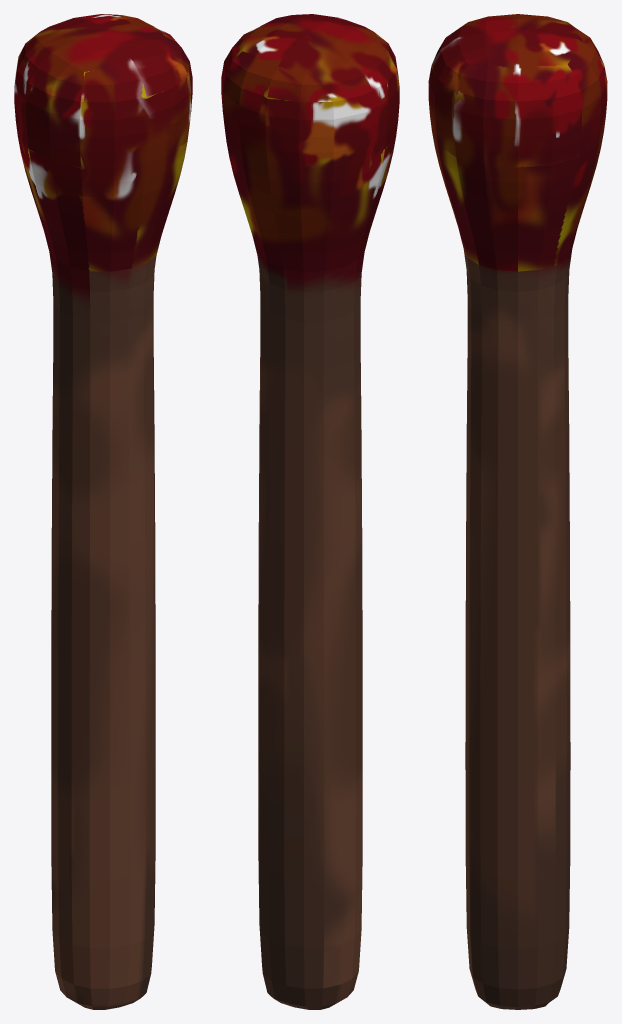
The model's file is torch.obj.
The picture shows the model from 3 angles, left to right: view 1: azimuth 30°, elevation 25°; view 2: azimuth 150°, elevation 25°; view 3: azimuth 270°, elevation 25°; orthographic projection.
Visible parts, largest first — view 1: Cube_Cube.001; view 2: Cube_Cube.001; view 3: Cube_Cube.001.
Boxes of the visible parts, bbox=[...] form: Cube_Cube.001: bbox=[14, 14, 192, 1009]; Cube_Cube.001: bbox=[221, 14, 399, 1009]; Cube_Cube.001: bbox=[428, 14, 607, 1009].
Size of the model in its own units: 0.236 by 1.41 by 0.236.
1 material, 1 textured.
